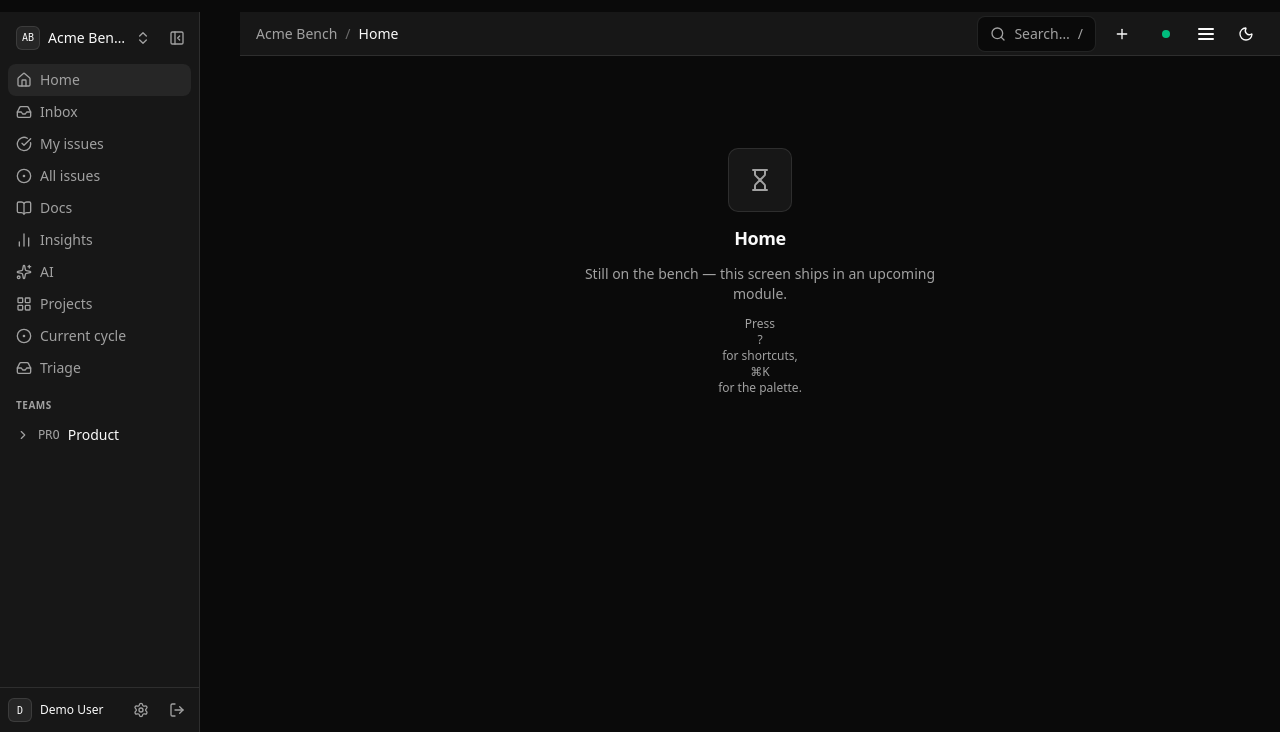
it: issue list selection + collapse › toggles row selection and shows the bulk bar
Click the link "All issues": (58, 176) left=16, top=166, right=100, bottom=185
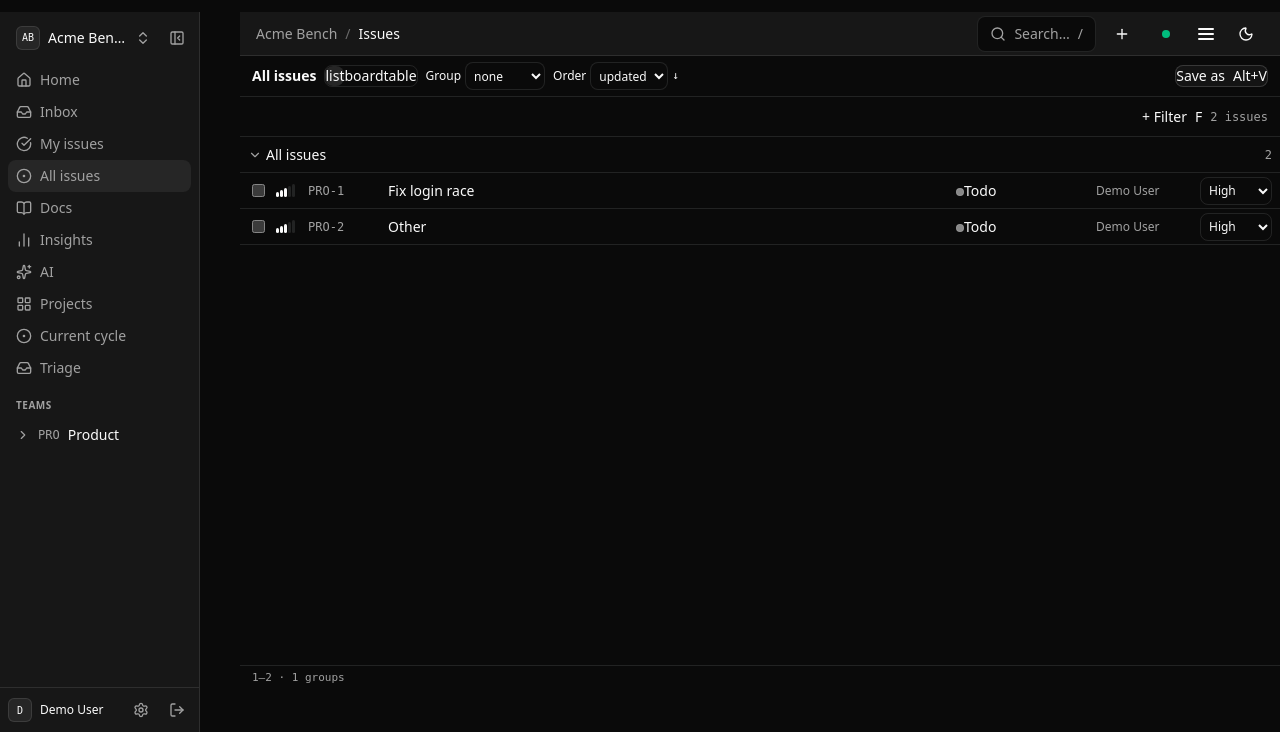
Expected: the heading "All issues" is shown, left=252, top=66, right=316, bottom=86
Click the checkbox named "Select PRO-1" next to "PRO-1": (258, 190) left=252, top=184, right=264, bottom=197
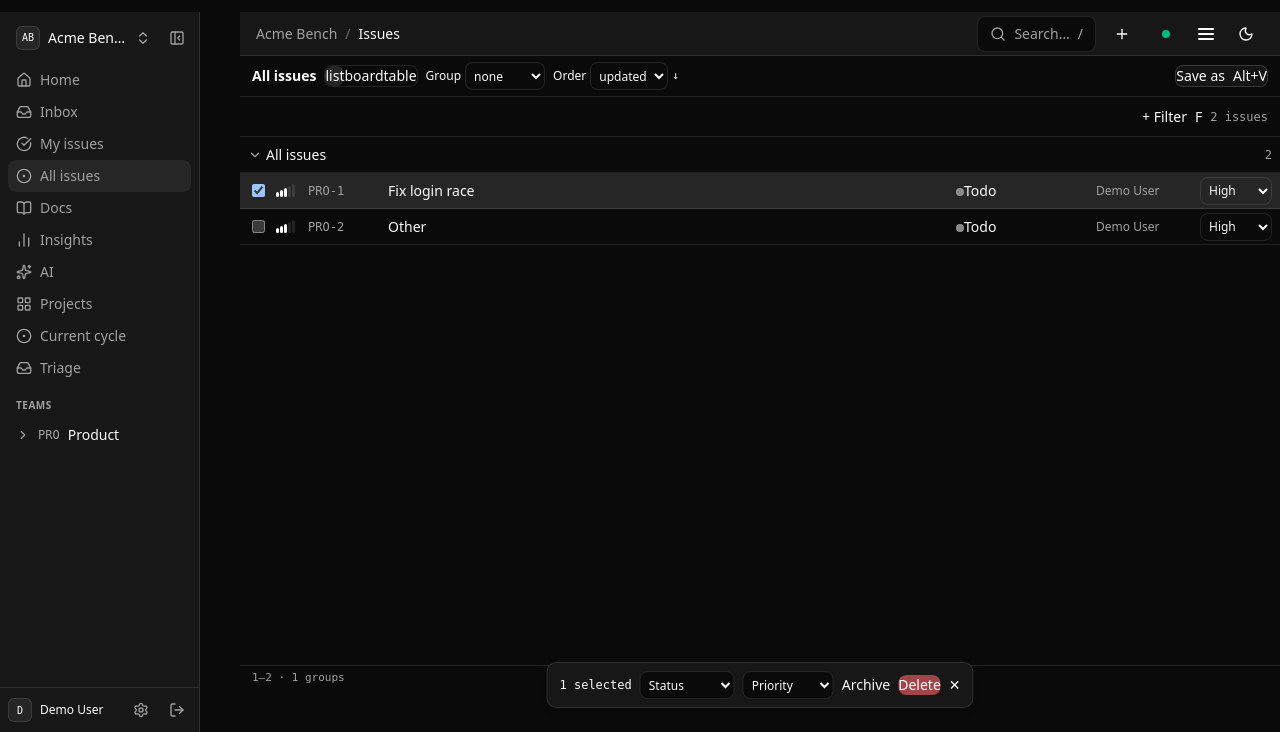
Expected: the element named "Bulk actions" is shown, left=546, top=662, right=974, bottom=708
Expected: the text "1 selected" is shown, left=560, top=677, right=632, bottom=693
